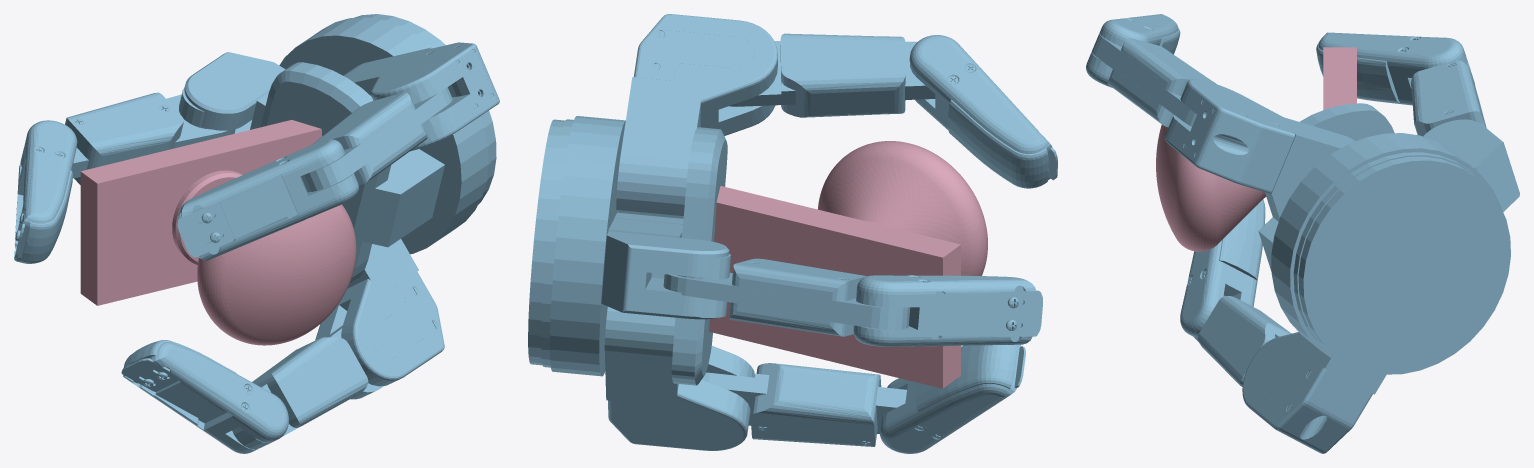
The picture shows the model from 3 angles, left to right: view 1: azimuth 30°, elevation 25°; view 2: azimuth 150°, elevation 25°; view 3: azimuth 270°, elevation 25°; orthographic projection. The views are drawn at different scales.
Parts seen in each view (by area): view 1: world, door_knob.stl; view 2: world, door_knob.stl; view 3: world, door_knob.stl.
Boxes of the visible parts, x1,y1,x2,y2 form: world: (14, 14, 499, 453); door_knob.stl: (80, 120, 356, 345); world: (528, 14, 1057, 453); door_knob.stl: (709, 141, 987, 388); world: (1086, 14, 1519, 453); door_knob.stl: (1156, 47, 1356, 251).
Bounding box in the file's own units: 0.2001 × 0.1479 × 0.1619.
